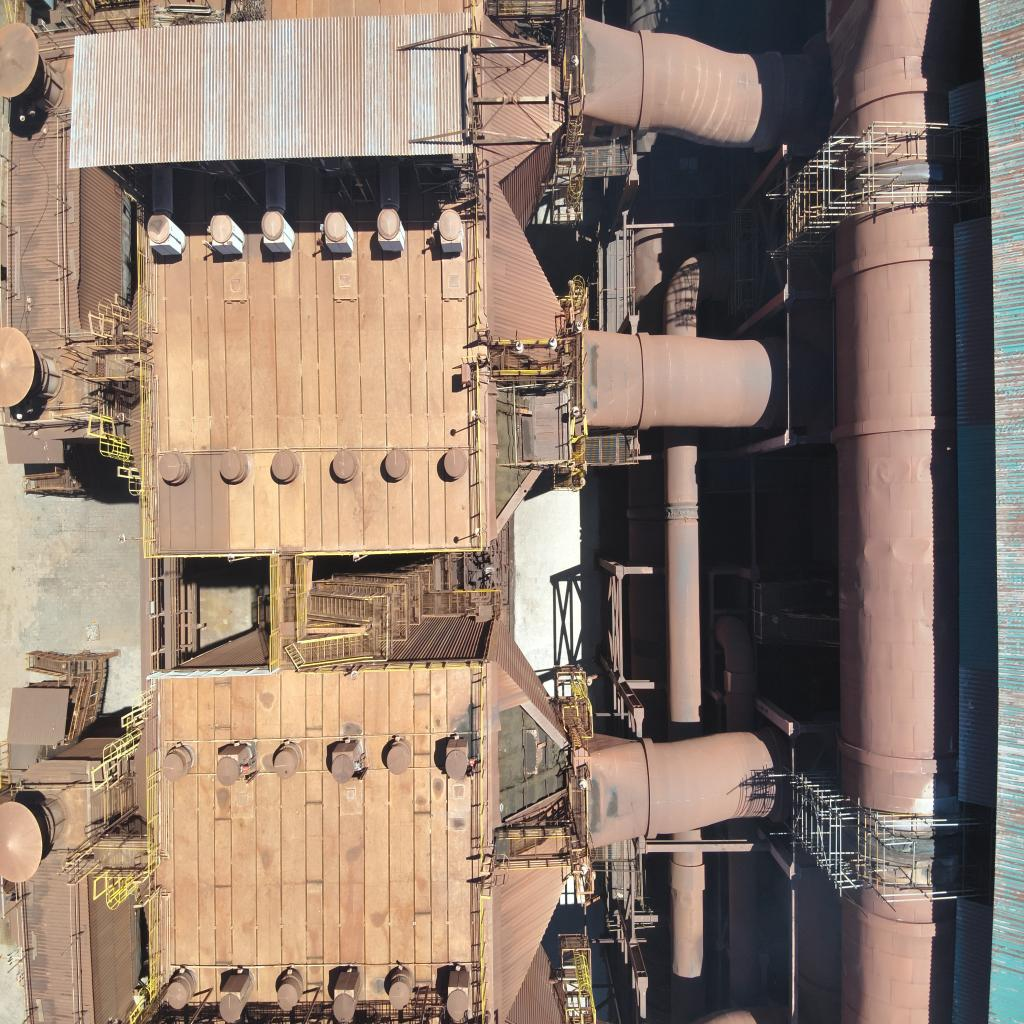Failures: (496, 702, 572, 826), (495, 384, 535, 530), (859, 821, 953, 869), (850, 158, 952, 195)
